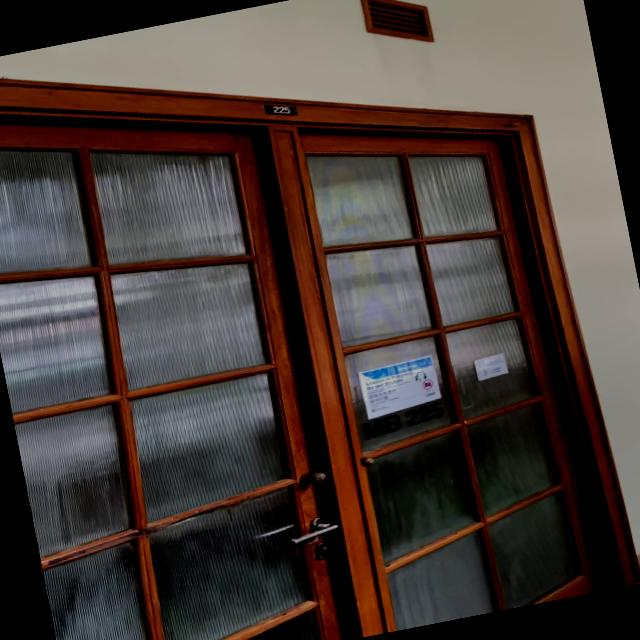room225: (262, 98, 299, 122)
room225Window: (360, 398, 450, 443)
